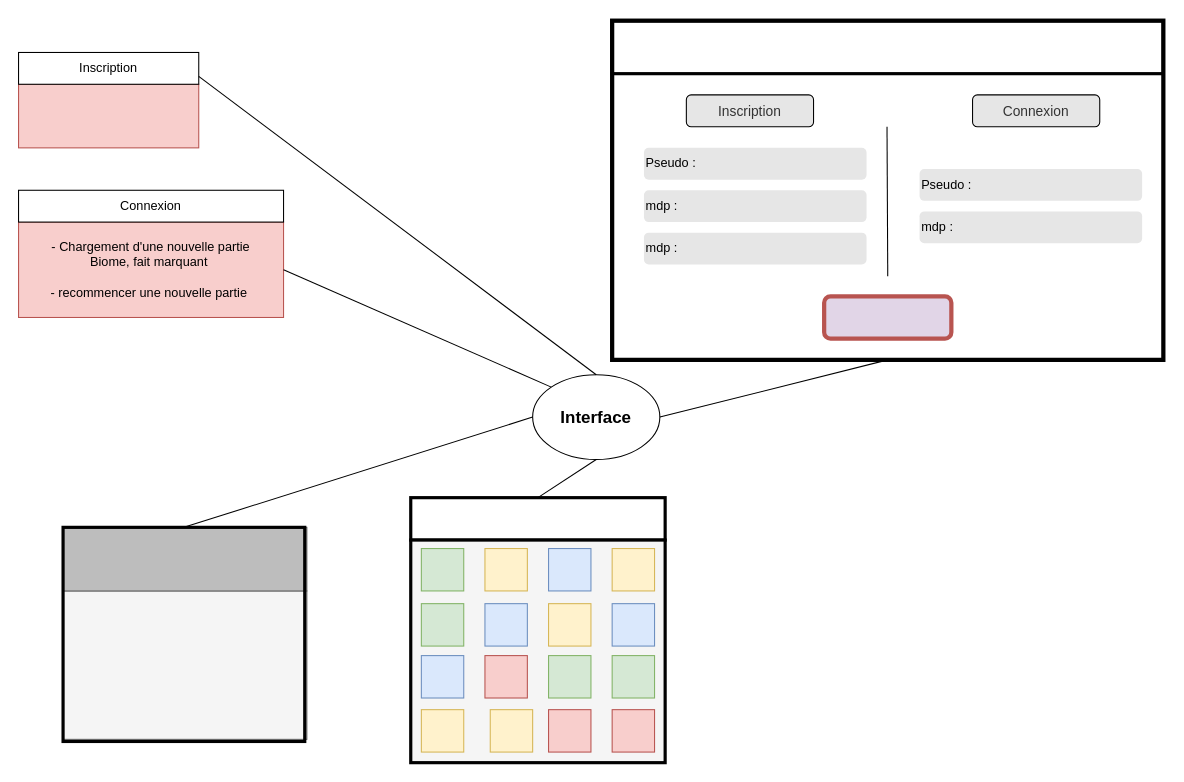
This 1184x782 diagram has some shape labels left out. Each missing label, with the box of its shape:
- Titre et règle - Choix de l'avater - Chargement de la map: (17, 83, 199, 148)
AUTHENTIFICATION: (610, 19, 1164, 75)
Inventaire: (409, 496, 666, 541)
PAUSE: (62, 526, 307, 591)
SAUVEGARDER QUITTER NOUVELLE PARTIE: (62, 590, 307, 739)
Valider: (822, 294, 953, 340)
